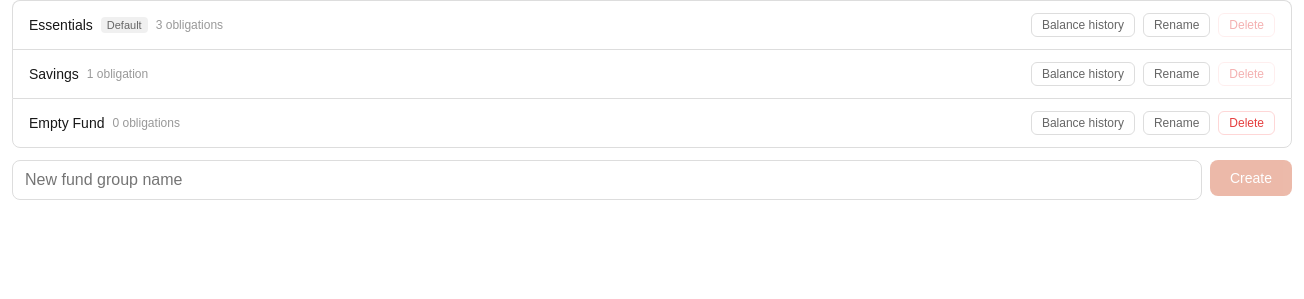
Test: FundsSection › shows contribution history when History button is clicked
Expected: the text "Essentials" is shown, top-left (29, 17), bottom-right (93, 33)
Click the button "Balance history" in the row of "Default" at (1083, 25), box top-left (1031, 13), bottom-right (1135, 37)
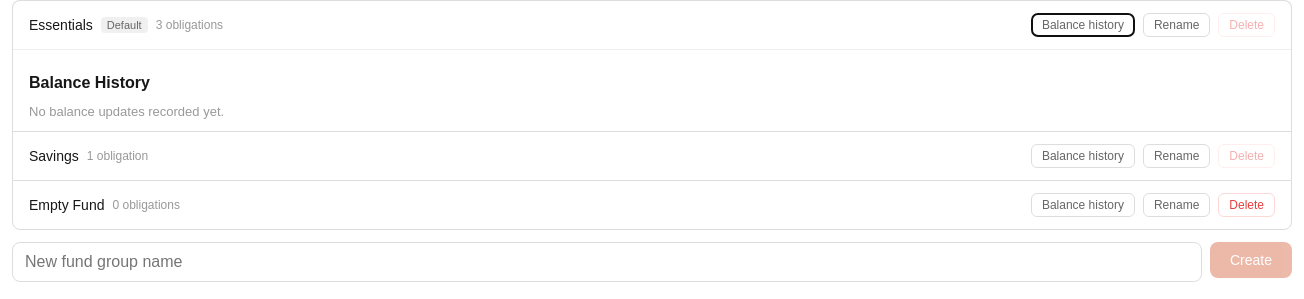
Expected: the element with test id "contribution-history" is shown, top-left (29, 74), bottom-right (224, 119)
